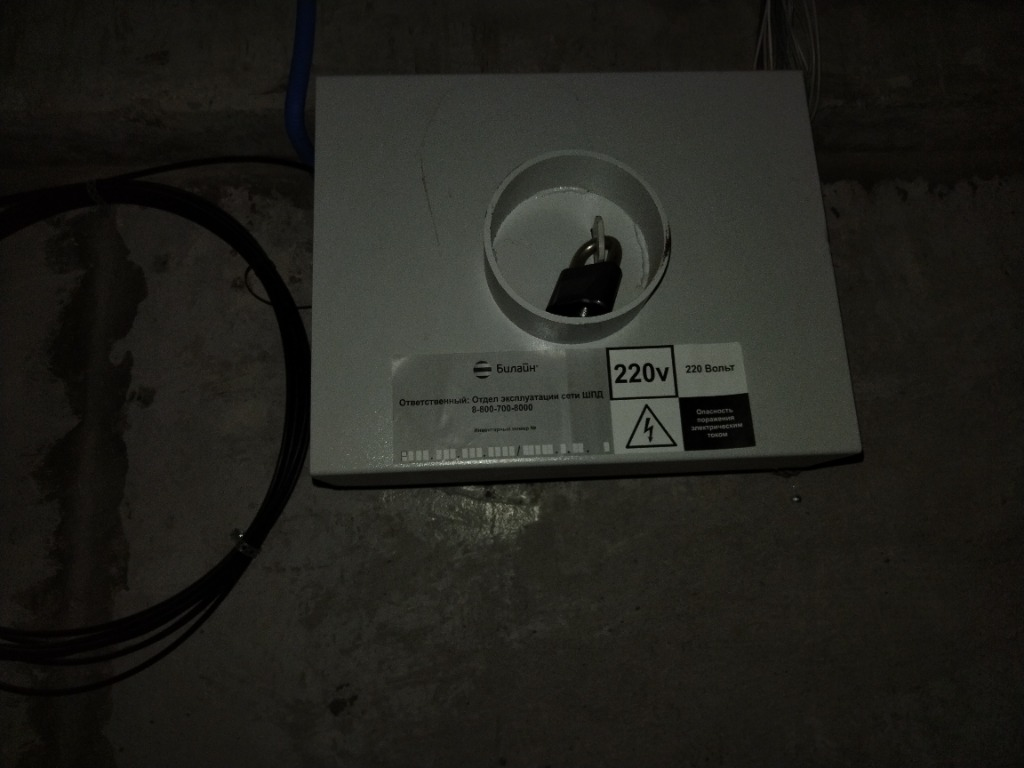shta-3: (303, 70, 867, 492)
